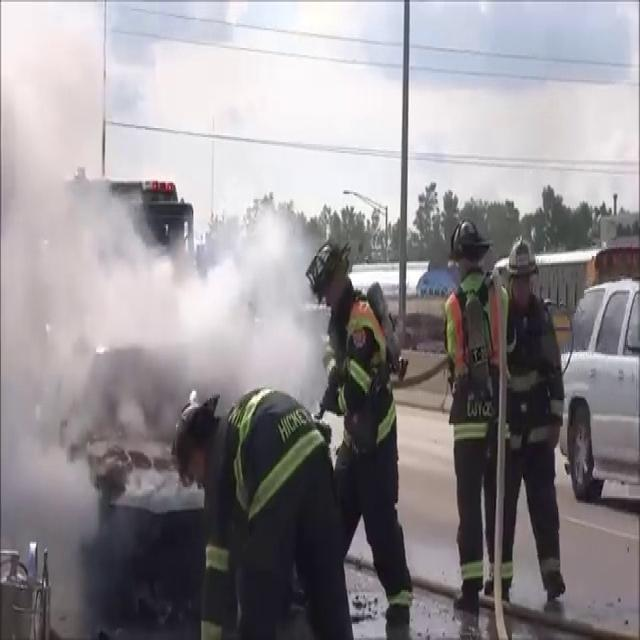Smoke: (1, 62, 328, 400)
